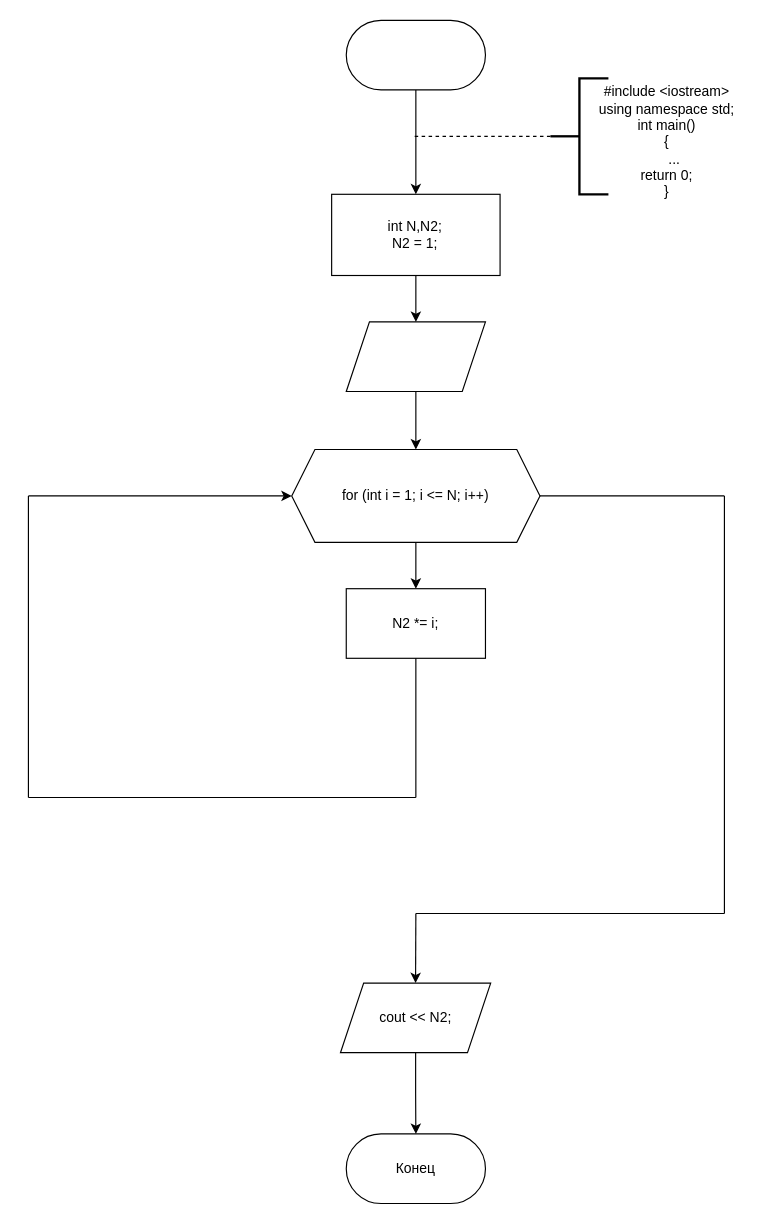
The diagram is 768 pixels wide and 1224 high, and some of its shapes have lost their labels. The shapes that lost their labels are listed below. From the top down, each one's centre as x and y in pixels, then its label:
(x=415, y=54): Начало
(x=415, y=356): cin >> N
